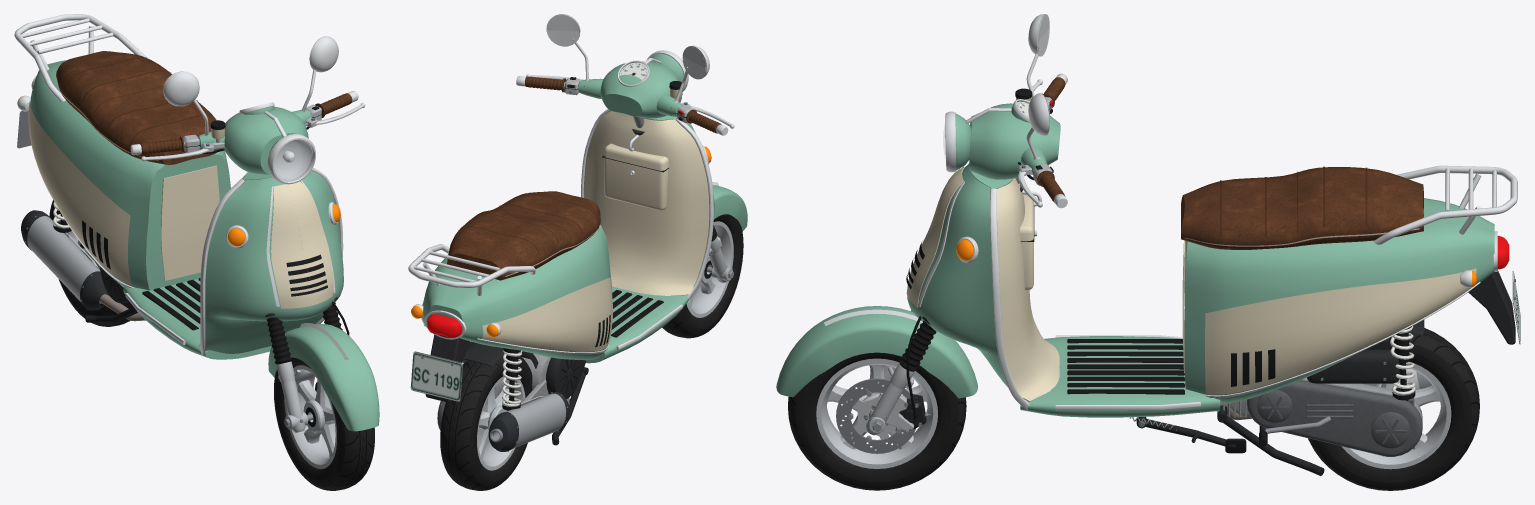
The model's file is scooter.glb.
The picture shows the model from 3 angles, left to right: view 1: azimuth 30°, elevation 25°; view 2: azimuth 150°, elevation 25°; view 3: azimuth 270°, elevation 25°; orthographic projection. The views are drawn at different scales.
Visible parts, largest first — view 1: Body, Fork, Wheel_Front, Swingarm, Wheel_Rear; view 2: Body, Fork, Wheel_Rear, Swingarm, Wheel_Front; view 3: Body, Fork, Wheel_Front, Swingarm, Wheel_Rear, Side_Stand.
Boxes of the visible parts, x1,y1,x2,y2 form: Body: (14,14,343,359); Fork: (130,36,379,432); Wheel_Front: (274,357,374,490); Swingarm: (21,210,145,321); Wheel_Rear: (49,200,133,326); Body: (408,109,714,445); Fork: (516,14,747,282); Wheel_Rear: (440,356,532,490); Swingarm: (437,341,586,451); Wheel_Front: (662,214,743,338); Body: (906,163,1520,475); Fork: (776,14,1067,435); Wheel_Front: (788,352,966,490); Swingarm: (1217,320,1431,456); Wheel_Rear: (1308,328,1479,490); Side_Stand: (1129,416,1246,453).
Size of the model in its own units: 0.7613 by 1.22 by 1.9.
38 materials, 8 textured.
